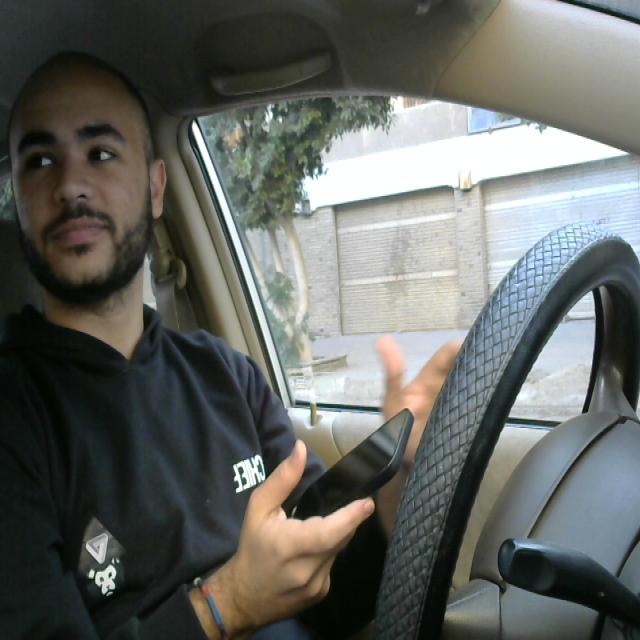mobile use: (281, 400, 413, 524)
